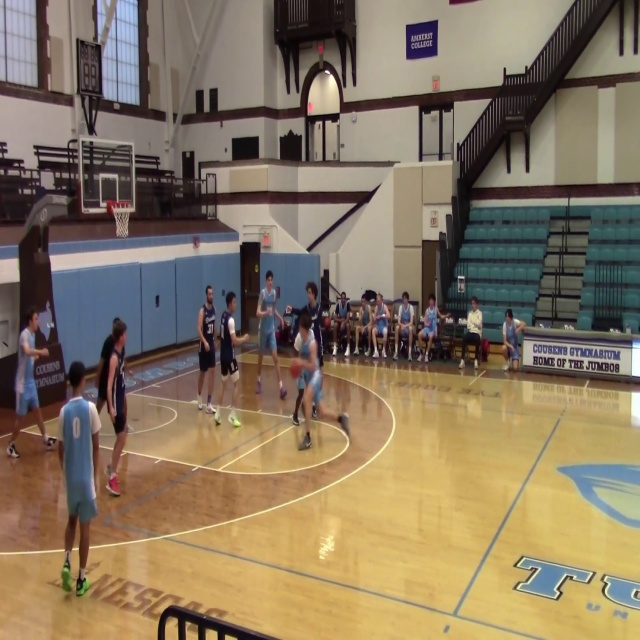Basketball: (289, 359, 302, 378), (228, 412, 241, 427)
